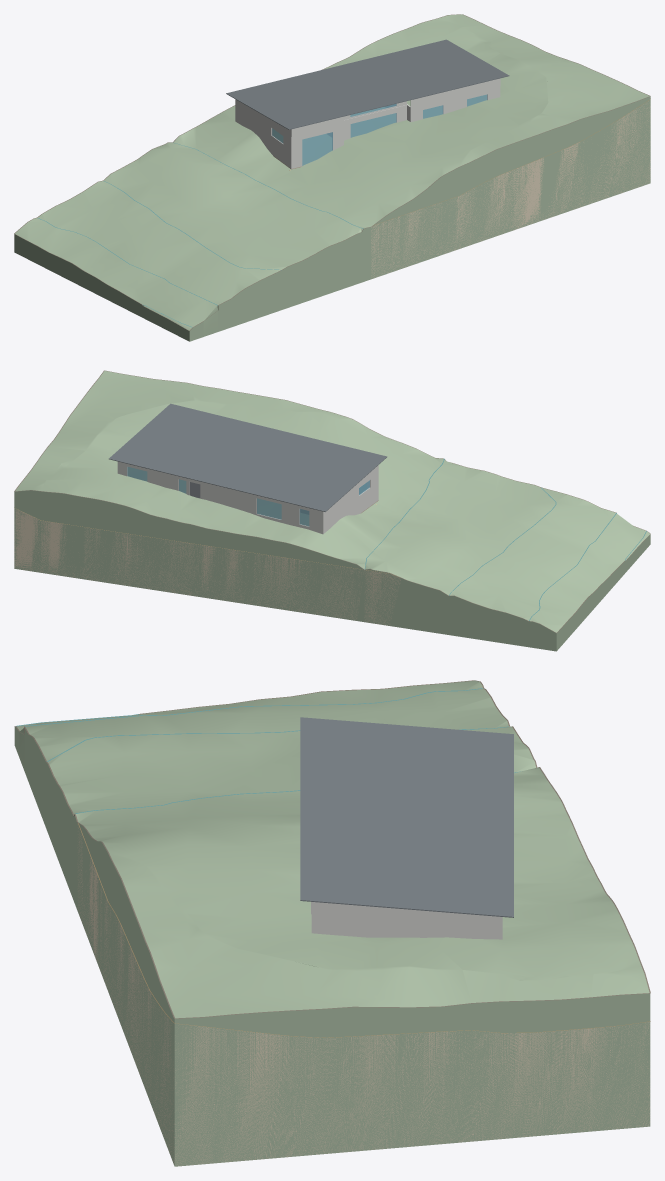
3 renders of one model, top to bottom at view 1: azimuth 30°, elevation 25°; view 2: azimuth 150°, elevation 25°; view 3: azimuth 270°, elevation 25°, orthographic. The views are drawn at different scales.
Parts seen in each view (by area): view 1: FD-L10-GND-EXISTING, GF-L10-ROOF-01, FD-L10-GND-FINISHED-CANDIDATE, FD-L10-GND-EXISTING-BOUNDARY-LINE, GF-L10-WALL-P0306, GF-L10-UPPER-FRONT-R, GF-L10-OPENING-FRONT-BED1, FD-L10-GND-EXISTING-CONTOUR-LINE, GF-L10-OPENING-FRONT-LIVING; view 2: FD-L10-GND-EXISTING, GF-L10-ROOF-01, FD-L10-GND-FINISHED-CANDIDATE, FD-L10-GND-EXISTING-BOUNDARY-LINE, GF-L10-WALL-P0314, GF-L10-WALL-P0306, FD-L10-GND-EXISTING-CONTOUR-LINE, GF-L10-WALL-P0316, GF-L10-WALL-P0313; view 3: FD-L10-GND-EXISTING, GF-L10-ROOF-01, FD-L10-GND-FINISHED-CANDIDATE, GF-L10-WALL-P0309, FD-L10-GND-EXISTING-BOUNDARY-LINE, FD-L10-GND-EXISTING-CONTOUR-LINE, __delivery_mesh_255.
Boxes of the visible parts, x1,y1,x2,y2 form: FD-L10-GND-EXISTING: (14,14,650,341); GF-L10-ROOF-01: (226,39,509,129); FD-L10-GND-FINISHED-CANDIDATE: (371,101,650,278); FD-L10-GND-EXISTING-BOUNDARY-LINE: (14,14,650,330); GF-L10-WALL-P0306: (235,99,272,153); GF-L10-UPPER-FRONT-R: (410,78,500,107); GF-L10-OPENING-FRONT-BED1: (302,132,332,165); FD-L10-GND-EXISTING-CONTOUR-LINE: (38,142,363,327); GF-L10-OPENING-FRONT-LIVING: (350,113,396,137); FD-L10-GND-EXISTING: (14,371,650,651); GF-L10-ROOF-01: (109,403,387,511); FD-L10-GND-FINISHED-CANDIDATE: (14,509,400,625); FD-L10-GND-EXISTING-BOUNDARY-LINE: (14,370,650,632); GF-L10-WALL-P0314: (200,481,256,515); GF-L10-WALL-P0306: (322,483,358,534); FD-L10-GND-EXISTING-CONTOUR-LINE: (364,458,646,620); GF-L10-WALL-P0316: (147,468,178,490); GF-L10-WALL-P0313: (281,501,299,526); FD-L10-GND-EXISTING: (14,680,650,1166); GF-L10-ROOF-01: (300,717,513,917); FD-L10-GND-FINISHED-CANDIDATE: (77,824,650,1166); GF-L10-WALL-P0309: (311,914,502,939); FD-L10-GND-EXISTING-BOUNDARY-LINE: (14,680,650,1018); FD-L10-GND-EXISTING-CONTOUR-LINE: (16,688,520,813); __delivery_mesh_255: (311,902,466,914).
Bounding box in the file's own units: 42.8 × 7.91 × 25.33.
